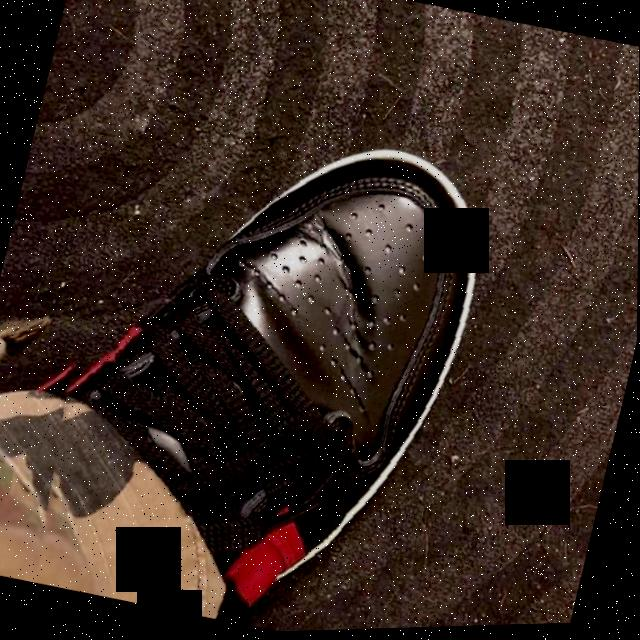shoe: (1, 52, 512, 640)
